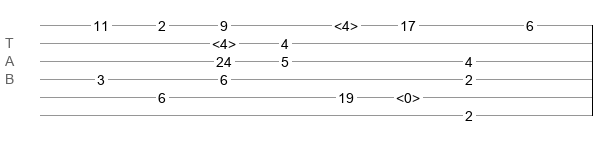11: (93, 18, 109, 28)
17: (400, 18, 416, 28)
19: (338, 90, 354, 100)
2: (158, 18, 166, 28), (465, 108, 473, 118), (465, 72, 473, 82)
24: (216, 54, 232, 64)
3: (97, 72, 105, 82)
4: (281, 36, 289, 46), (465, 54, 473, 64)
5: (281, 54, 289, 64)
6: (158, 90, 166, 100), (220, 72, 228, 82), (526, 18, 534, 28)
9: (220, 18, 228, 28)
harmonic: (212, 36, 236, 46), (334, 18, 358, 28), (396, 90, 420, 100)
